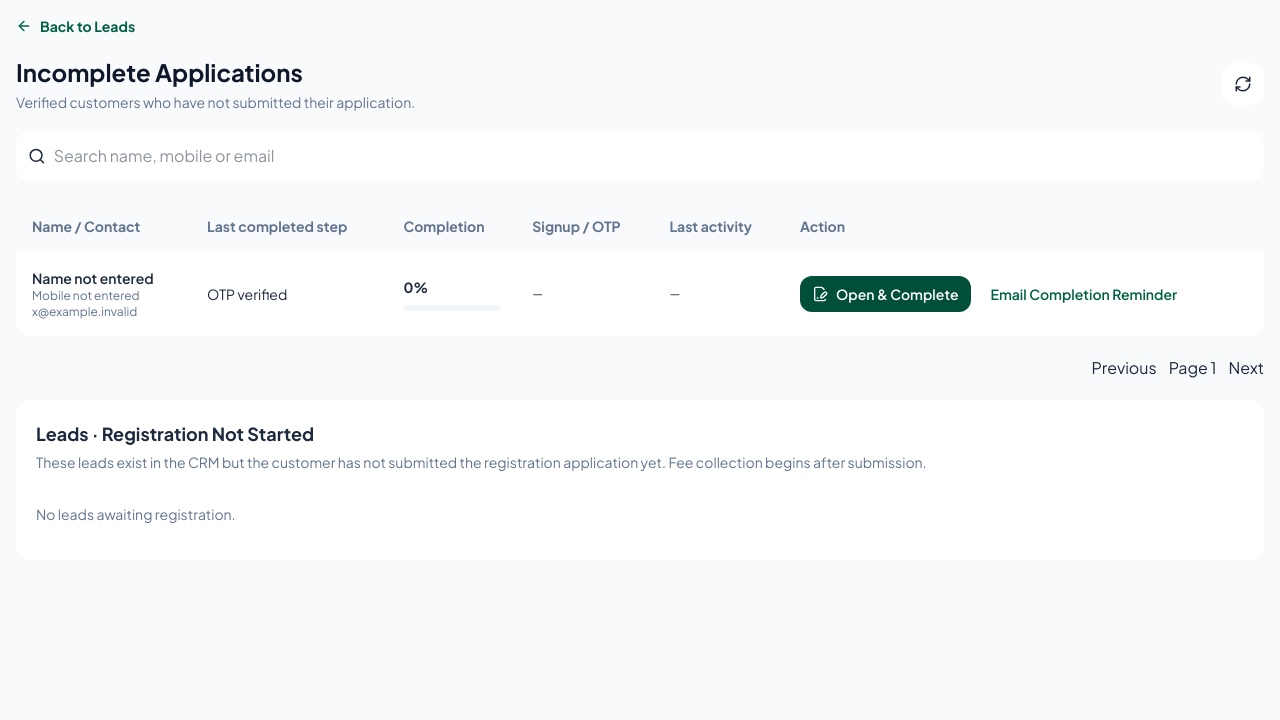
Test: a draft already submitted elsewhere does not reopen or duplicate
The width and height of the screenshot is (1280, 720).
Click the button "Open & Complete".
click(885, 294)  # box [800,276,970,312]
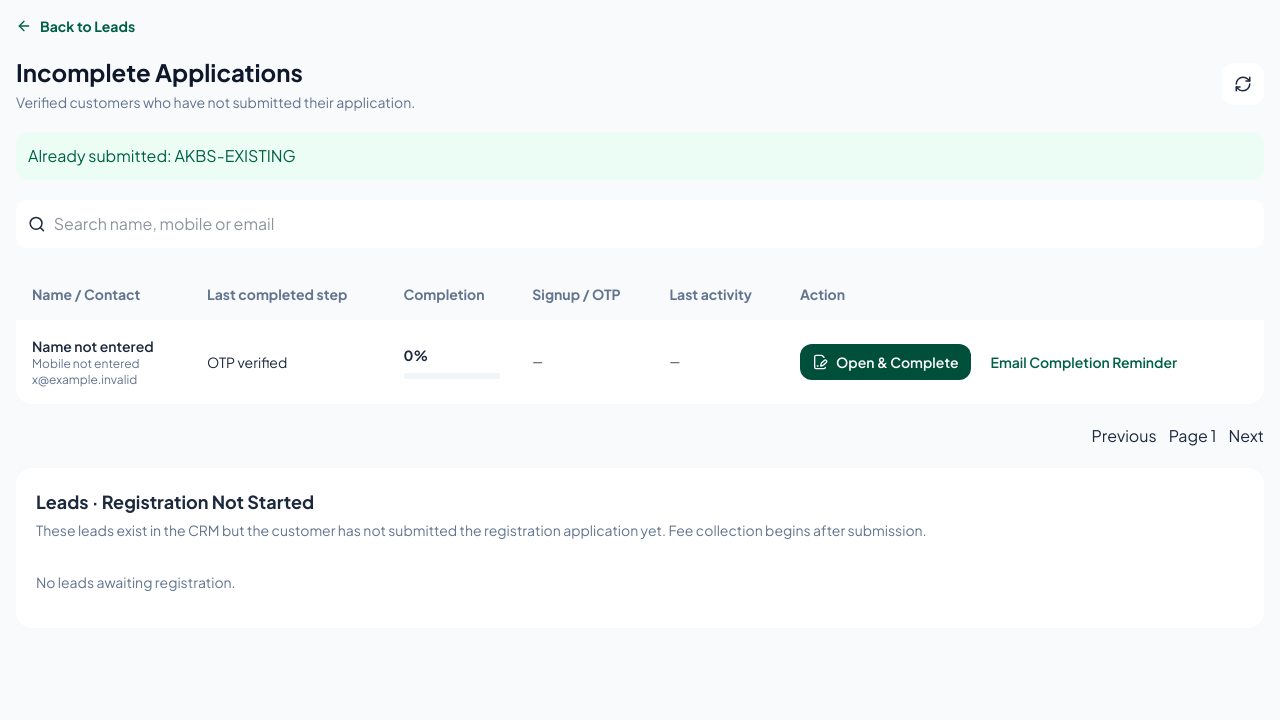
Now the text "Already submitted: AKBS-EXISTING" is shown, box [16,132,1264,180]
